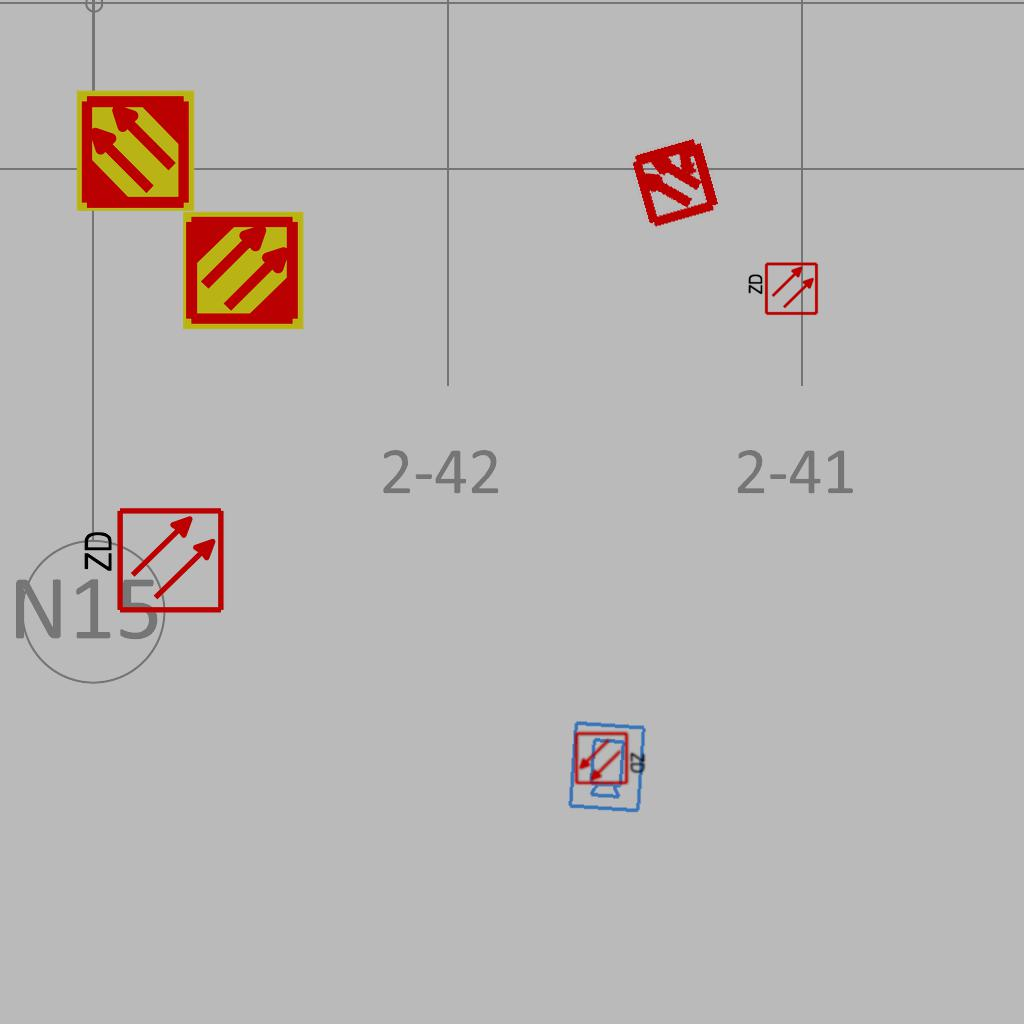ASR_Ansaugrauchmelder: (181, 208, 306, 333), (73, 88, 198, 213)
KFO_Kamera_mit_Festobjektiv: (564, 718, 649, 815)
OT_Multisensormelder_(Kombination_RMO_WMD): (604, 110, 745, 251)
ZD_Melder_in_Zwischendecke_mit_Revisionsoeffnung_mind_40_x_40_cm: (77, 505, 226, 619), (745, 261, 819, 318), (574, 729, 648, 786)
